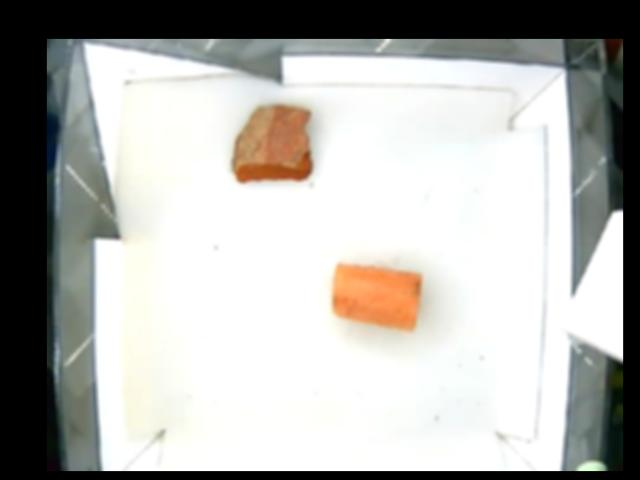Brisk: (227, 104, 316, 183)
Carrot: (333, 262, 425, 331)
